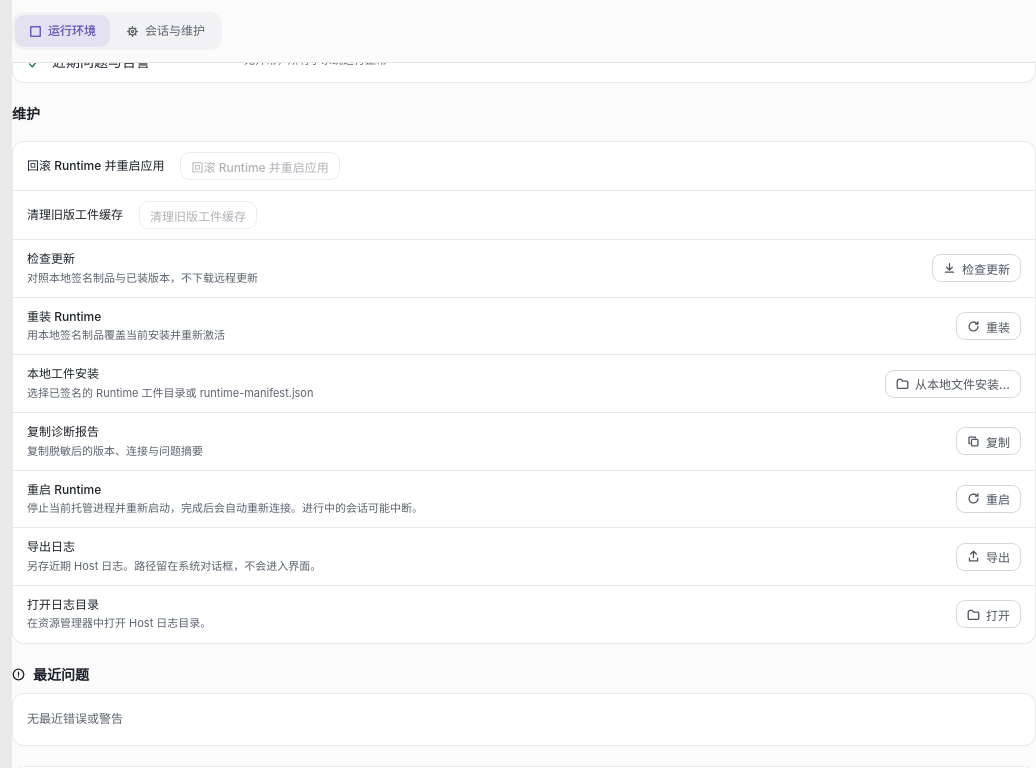
Test: Runtime installation handoff › reports a failed install result even when its command receipt is completed
This screenshot has width=1036, height=768.
Click the button "从本地文件安装…" at (953, 384), box [885, 370, 1021, 398]
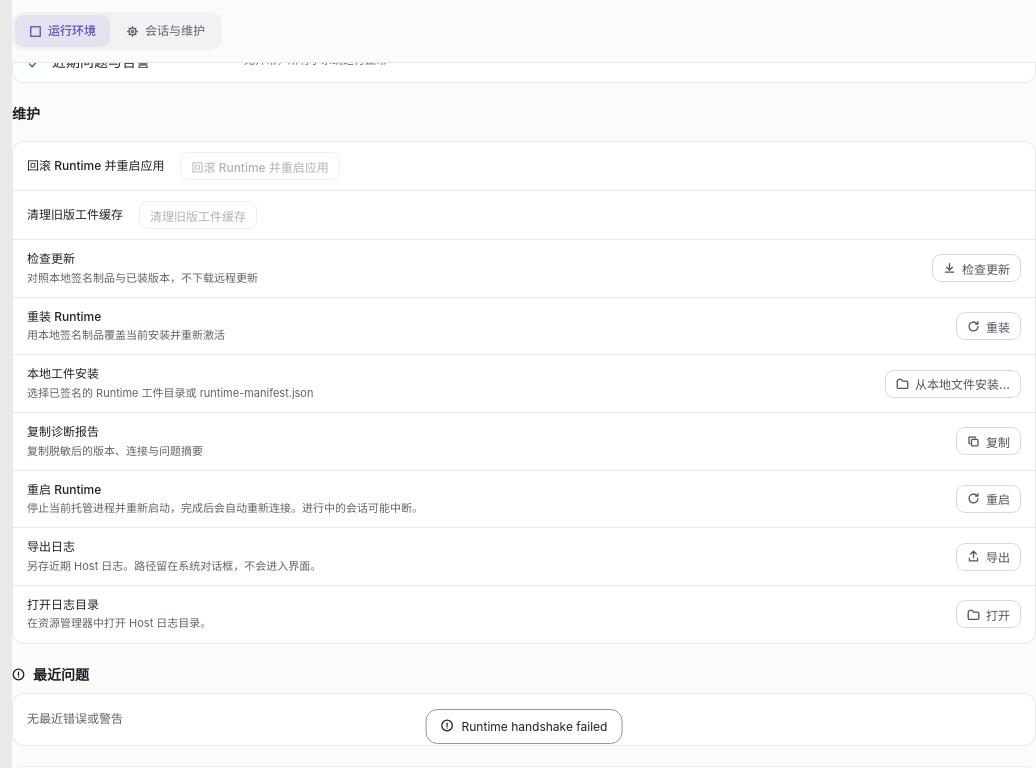
expect the text "Runtime handshake failed" is shown: met, box [462, 718, 607, 735]
